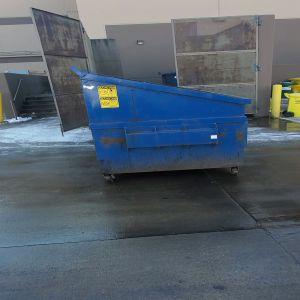Dumpster: (82, 74, 253, 183)
